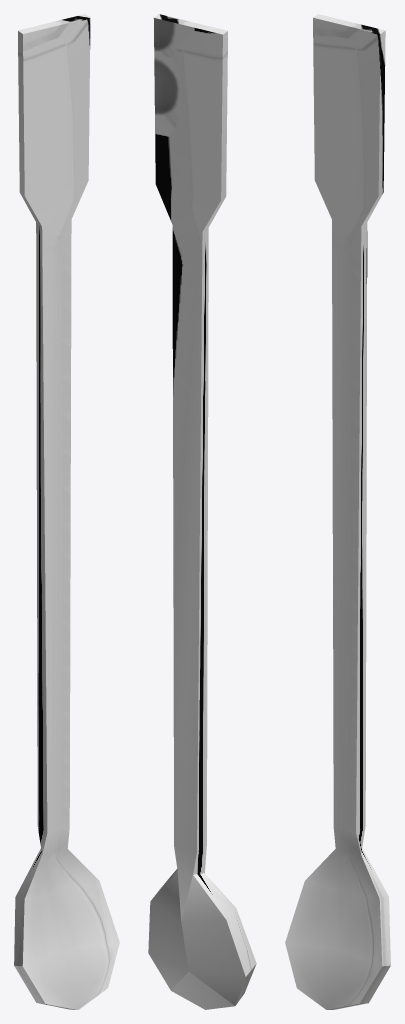
The model's file is Spatula_Spoon_Colldr.fbx.
The picture shows the model from 3 angles, left to right: view 1: azimuth 30°, elevation 25°; view 2: azimuth 150°, elevation 25°; view 3: azimuth 330°, elevation 25°; orthographic projection. The views are drawn at different scales.
Visible parts, largest first — view 1: Spatula_Spoon_Colldr; view 2: Spatula_Spoon_Colldr; view 3: Spatula_Spoon_Colldr.
Part boxes in pixels (x1,y1,x2,y2): Spatula_Spoon_Colldr: (14,14,119,1009); Spatula_Spoon_Colldr: (148,14,256,1009); Spatula_Spoon_Colldr: (285,14,390,1009).
Size of the model in its own units: 2.01 by 19.29 by 1.19.
